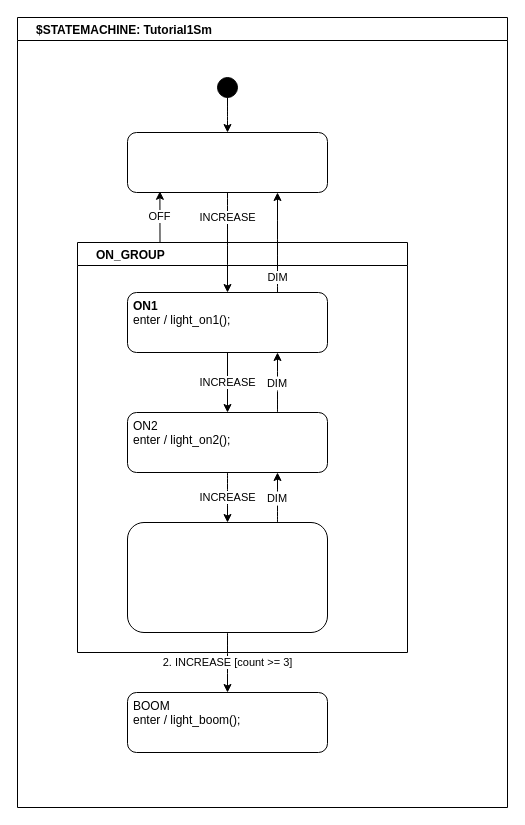
Some shapes in this 525 by 825 pixel diagram are drawn without their labels. The shapes that lost their labels are listed below. From the top down, each one's centre as x and y in pixels, then its label:
point 227,162: OFF enter / light_off();
point 227,577: ON3 enter / { count = 0; light_on3(); } 1. INCREASE / count++;
